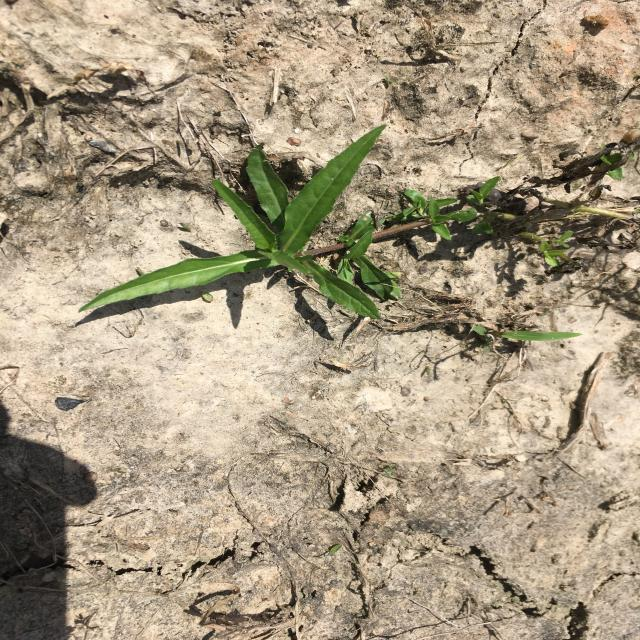Eclipta: (76, 123, 575, 320)
